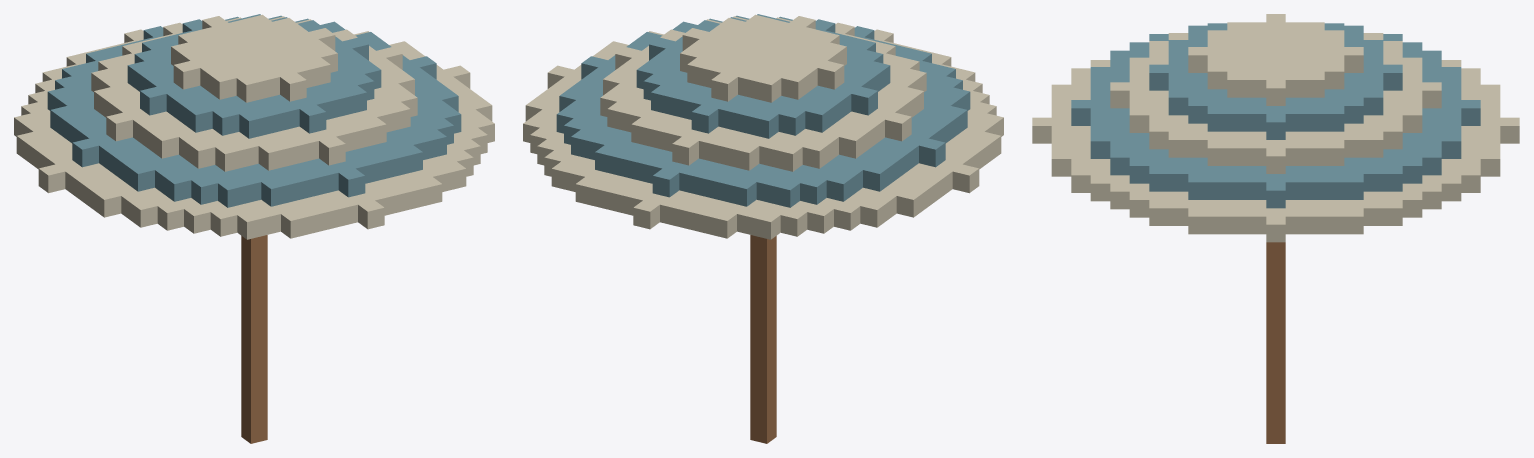
The model's file is travel-08.glb.
The picture shows the model from 3 angles, left to right: view 1: azimuth 30°, elevation 25°; view 2: azimuth 150°, elevation 25°; view 3: azimuth 270°, elevation 25°; orthographic projection.
Visible parts, largest first — view 1: Beach umbrella; view 2: Beach umbrella; view 3: Beach umbrella.
Boxes of the visible parts, bbox=[...] form: Beach umbrella: bbox=[14, 14, 494, 443]; Beach umbrella: bbox=[523, 14, 1003, 443]; Beach umbrella: bbox=[1032, 14, 1519, 443].
Bounding box in the file's own units: 2 × 1.76 × 2.
